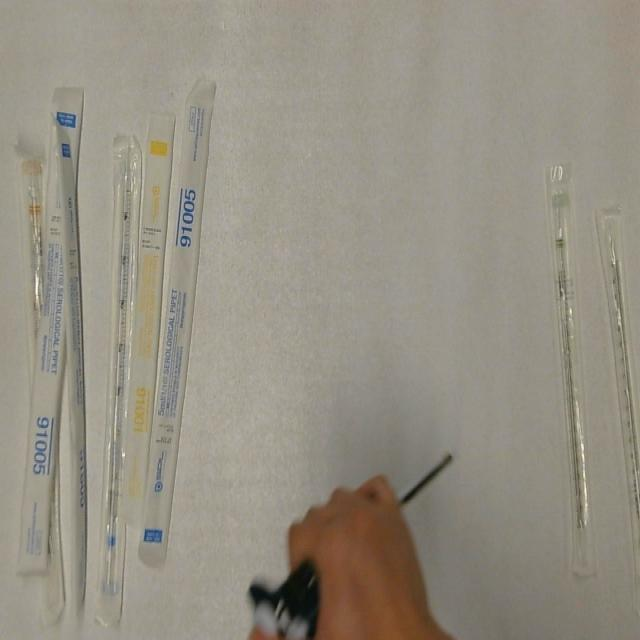Serelogical Pipet 1 mL - Sealed: (116, 105, 179, 530)
Serelogical Pipet 10 mL - Sealed: (16, 150, 62, 400)
Serelogical Pipet 2 mL - Sealed: (540, 158, 600, 586)
Serelogical Pipet 5 mL - Sealed: (135, 74, 220, 570), (15, 80, 87, 578), (92, 133, 144, 630), (52, 111, 90, 615)
Single Channel Pipettor: (244, 448, 462, 640)
